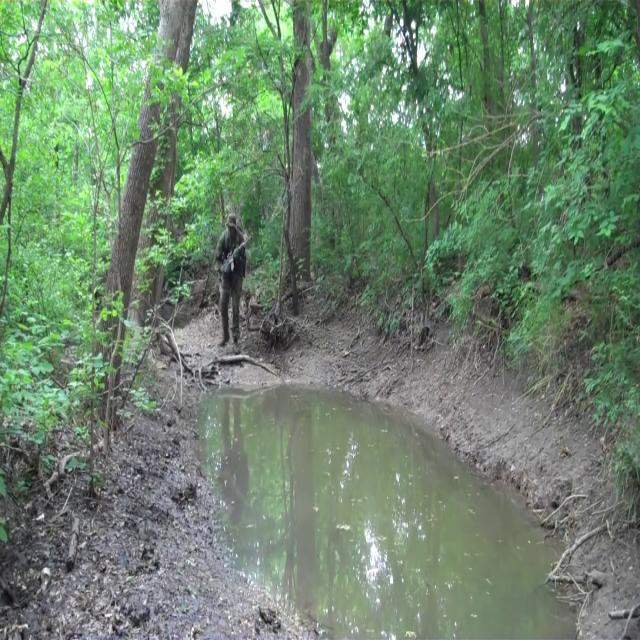MIL_Pax: (215, 210, 250, 346)
